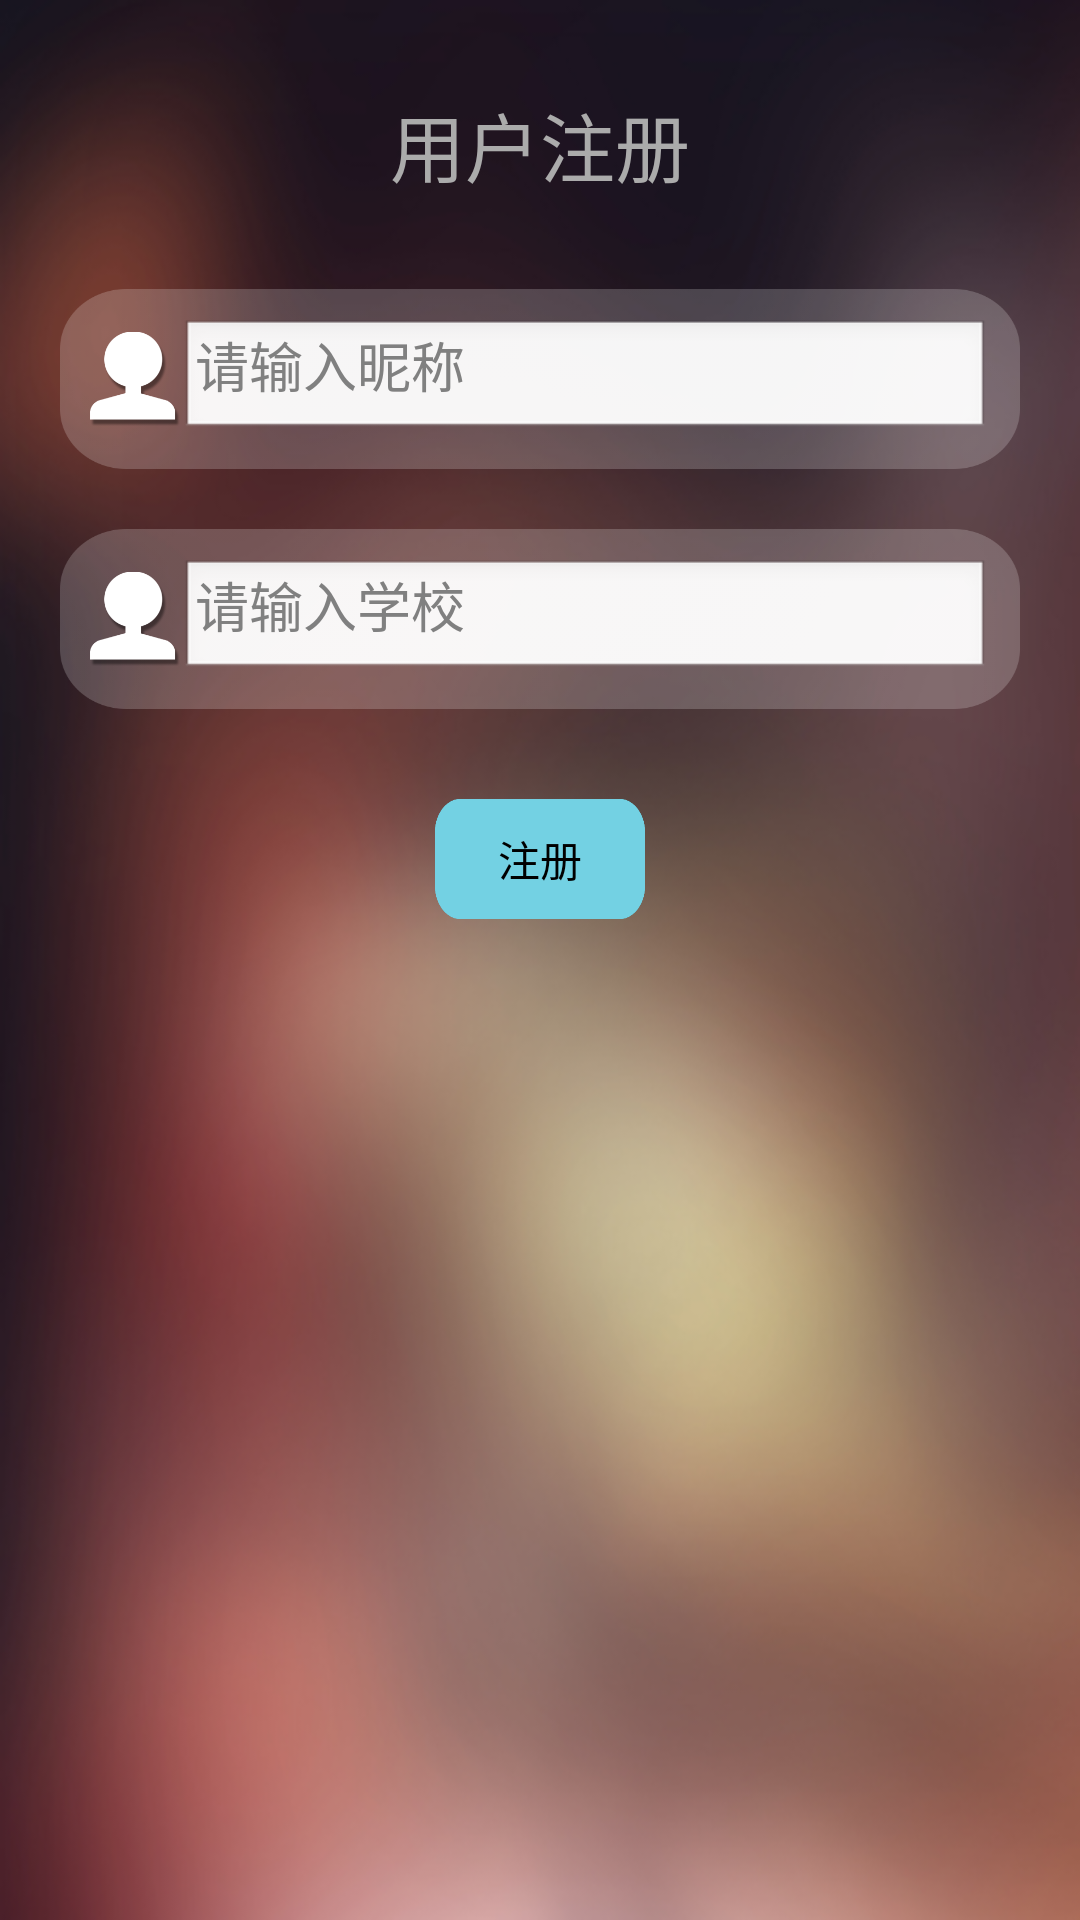

Locate icon controls on the screen. Image size 1080w x 1920h, boxes as (x1, y1, x2, y2).
reg nickname: (90, 332, 178, 425), (90, 572, 178, 666)
